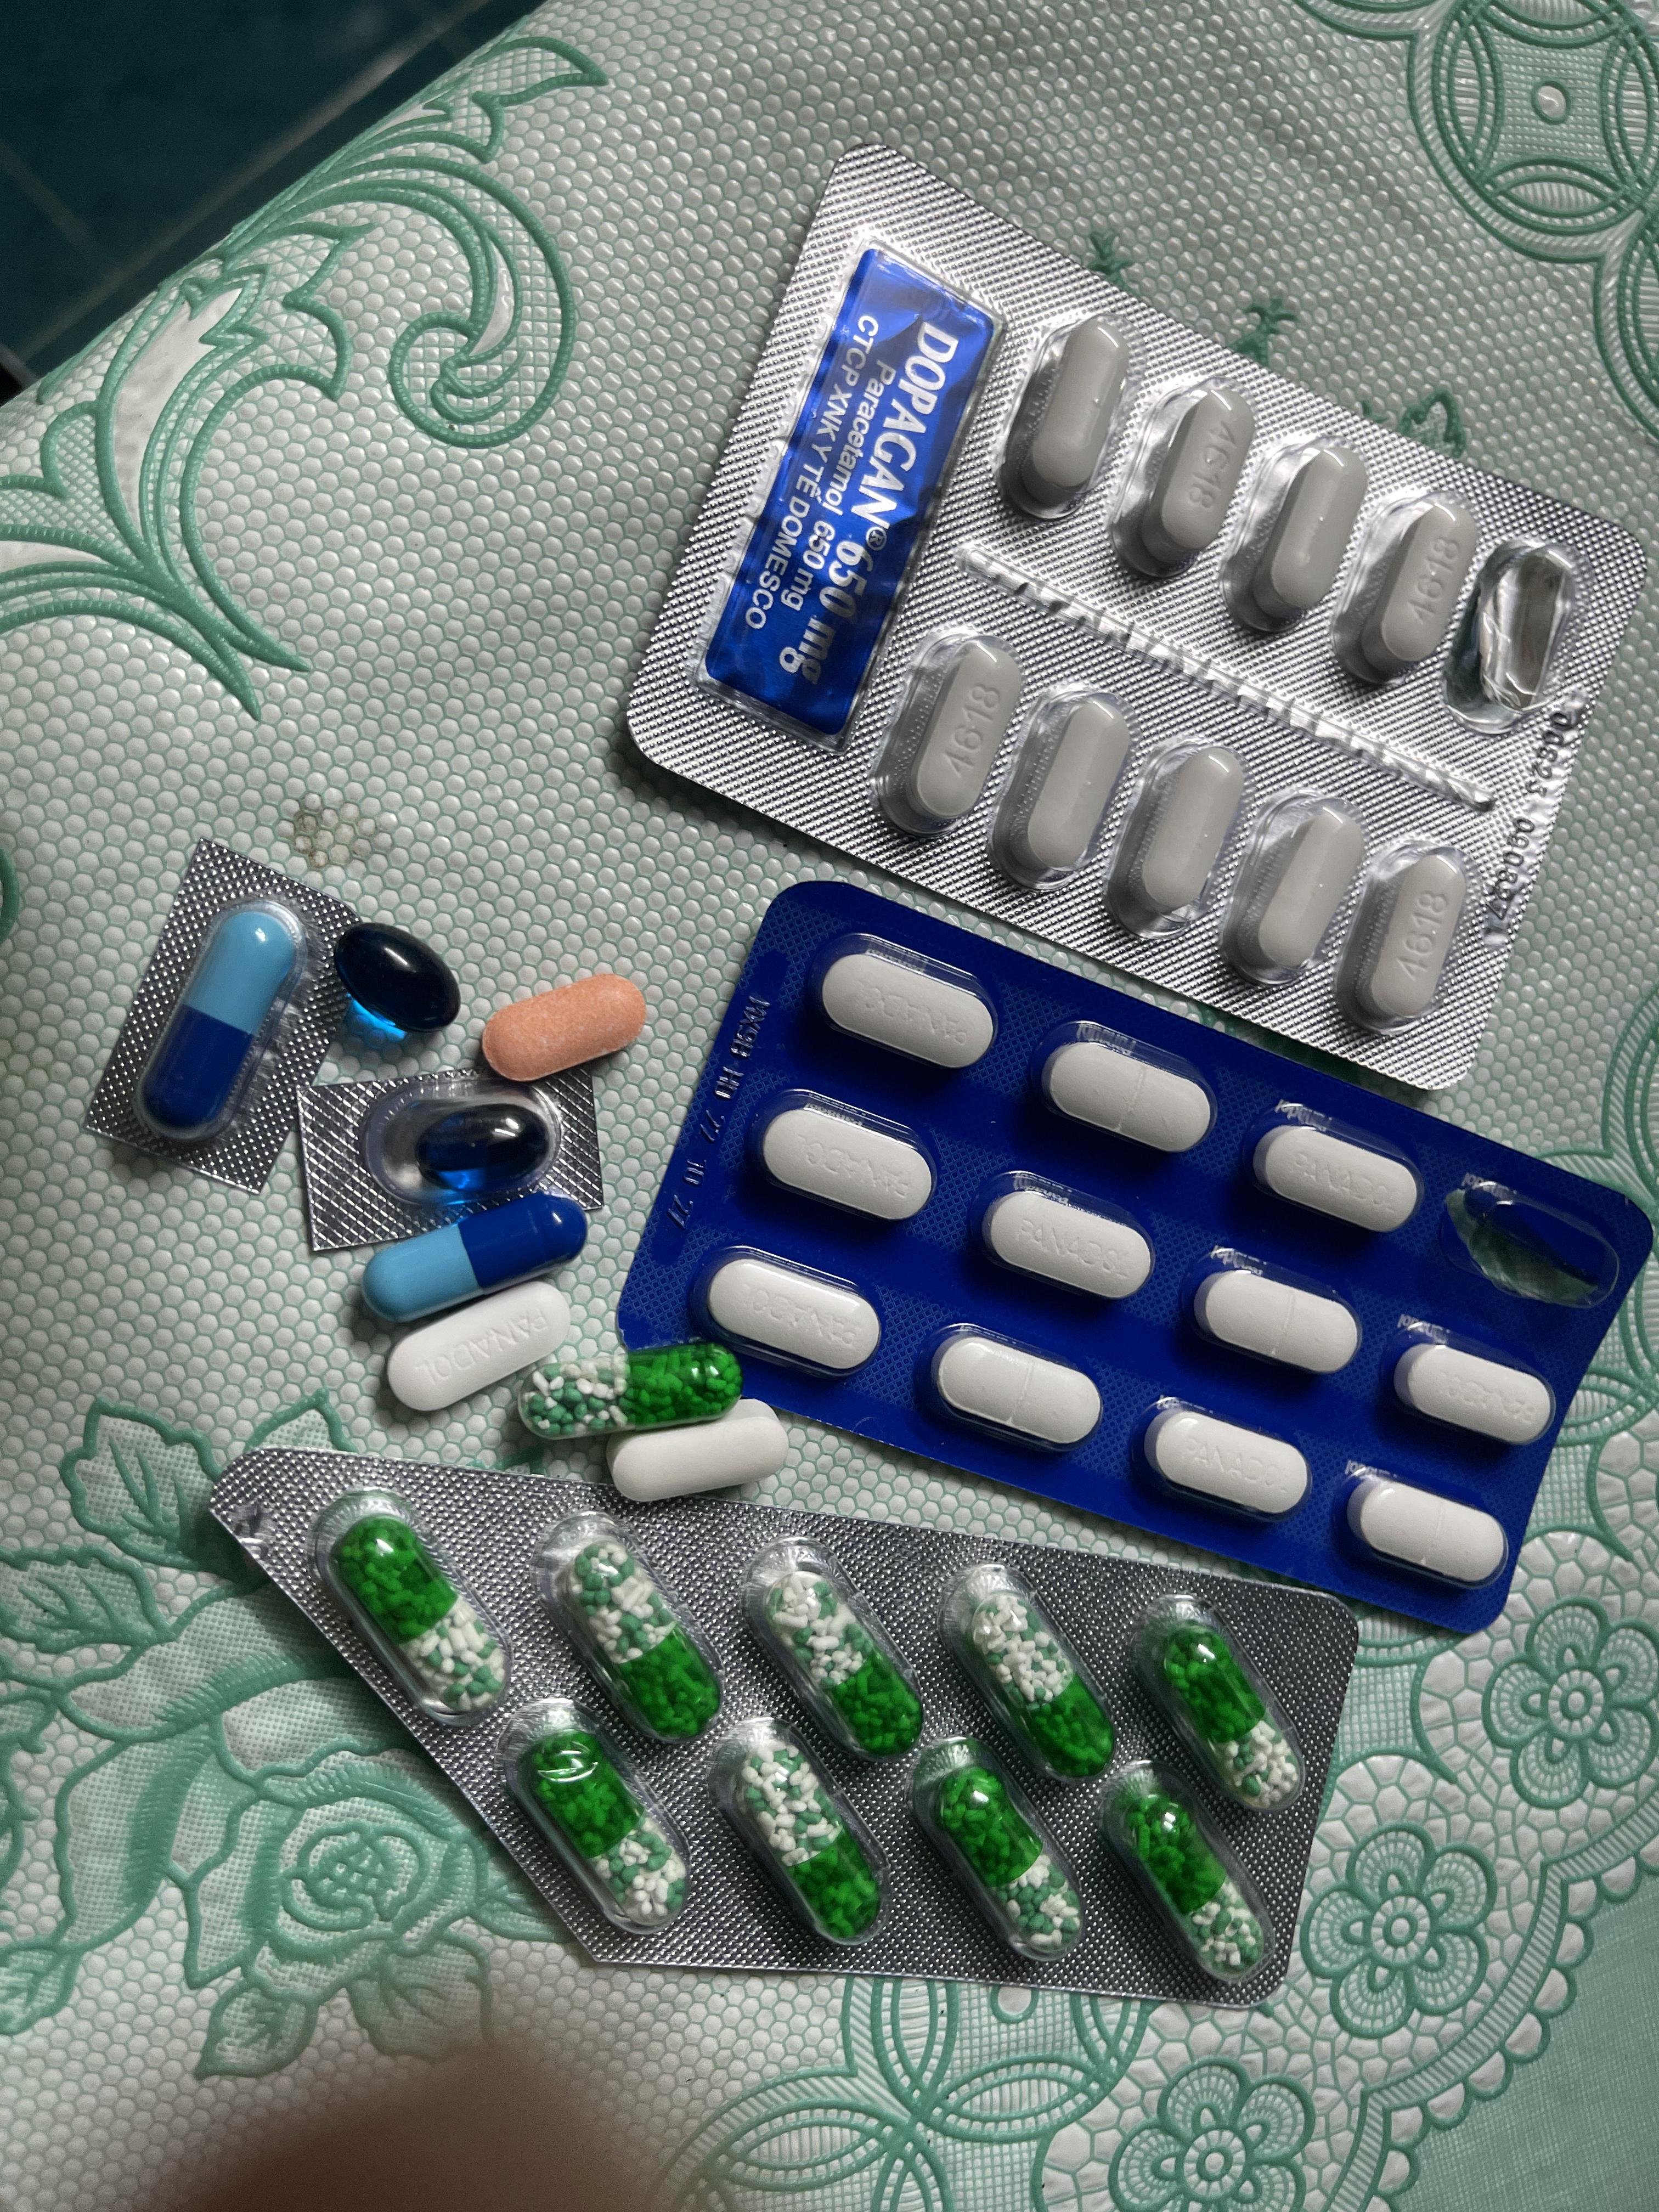Lincomyxin_500mg: (333, 921, 464, 1040), (413, 1104, 554, 1190)
Loratadine_10mg: (479, 974, 648, 1082)
Paracetamol_350mg: (383, 1278, 577, 1413), (814, 928, 999, 1055), (922, 1327, 1103, 1451), (755, 1096, 931, 1221), (976, 1184, 1152, 1301), (1187, 1258, 1358, 1376), (1138, 1404, 1307, 1522), (1344, 1468, 1509, 1585), (702, 1258, 870, 1371), (1253, 1120, 1422, 1231), (1042, 1040, 1208, 1150), (1391, 1339, 1556, 1447)
Paracetamol_500mg: (871, 631, 1026, 838), (1333, 488, 1480, 686), (1220, 435, 1366, 632), (990, 686, 1129, 892), (993, 308, 1127, 521), (1114, 383, 1253, 582), (1222, 789, 1366, 979), (1107, 742, 1246, 935), (1340, 840, 1474, 1021), (606, 1402, 781, 1500)
Paracetamol_650mg: (521, 1724, 687, 1928), (336, 1519, 507, 1709), (924, 1757, 1080, 1958), (565, 1543, 716, 1733), (1150, 1618, 1300, 1806), (967, 1592, 1115, 1780), (763, 1571, 915, 1754), (735, 1740, 875, 1939), (1119, 1784, 1260, 1972), (519, 1341, 737, 1435)
pill: (132, 897, 315, 1143), (361, 1191, 586, 1324)
